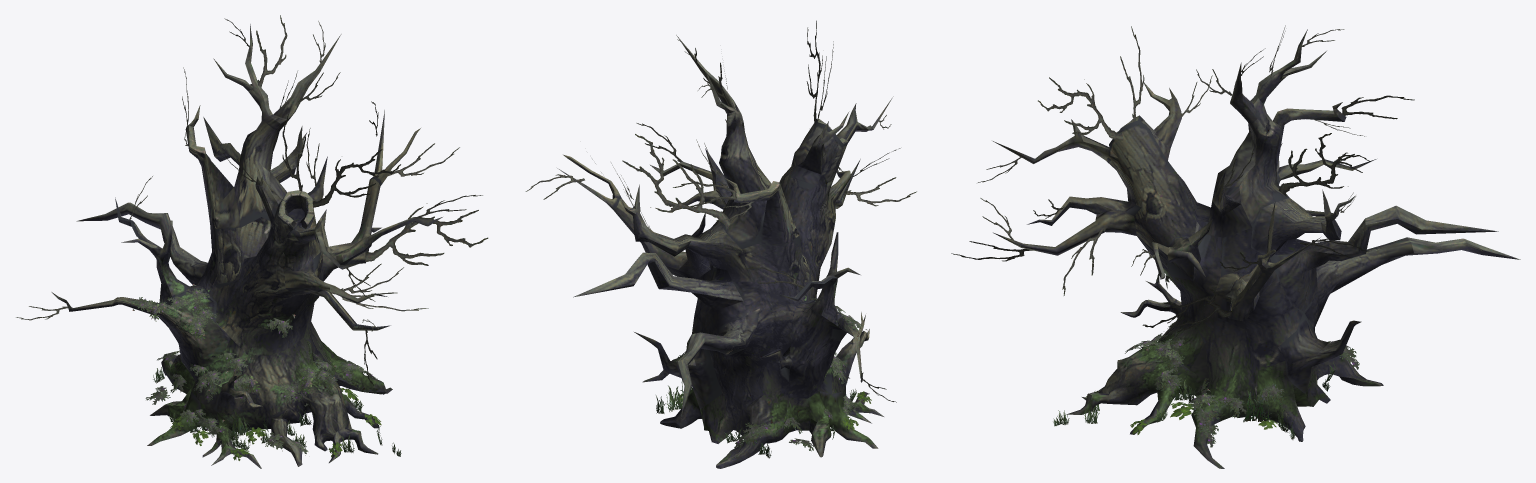
File: 7001_Item_shu_1.FBX
3 renders of one model, left to right at view 1: azimuth 30°, elevation 25°; view 2: azimuth 150°, elevation 25°; view 3: azimuth 270°, elevation 25°, orthographic. The views are drawn at different scales.
Parts seen in each view (by area): view 1: 7001_Item_shu_1; view 2: 7001_Item_shu_1; view 3: 7001_Item_shu_1.
Boxes of the visible parts, bbox=[...] form: 7001_Item_shu_1: bbox=[16, 15, 488, 468]; 7001_Item_shu_1: bbox=[525, 20, 916, 468]; 7001_Item_shu_1: bbox=[951, 25, 1520, 468].
Size of the model in its own units: 1731 by 1625 by 2076.
